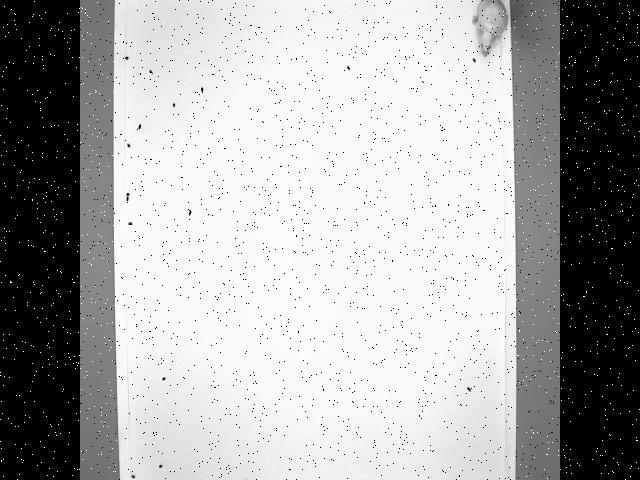Tikus: (465, 0, 512, 63)
